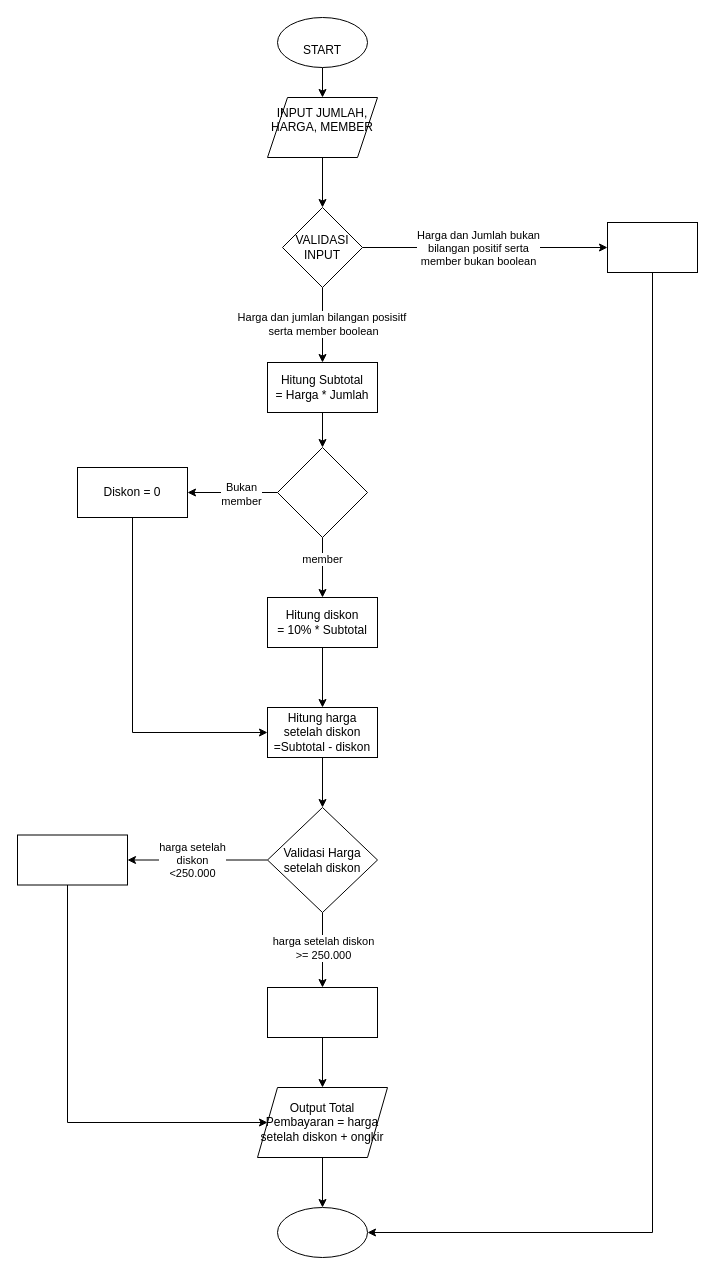
Some shapes in this 715 by 1275 pixel diagram are drawn without their labels. Each missing label, with the box of its shape:
Apakah member?: (276, 446, 368, 538)
Beri pesan eror "INPUT TIDAK VALID": (606, 222, 698, 272)
Biaya ongkir = 0: (266, 986, 378, 1038)
Biaya ongkir = 15.000: (16, 834, 128, 885)
FINISH: (276, 1206, 368, 1258)
